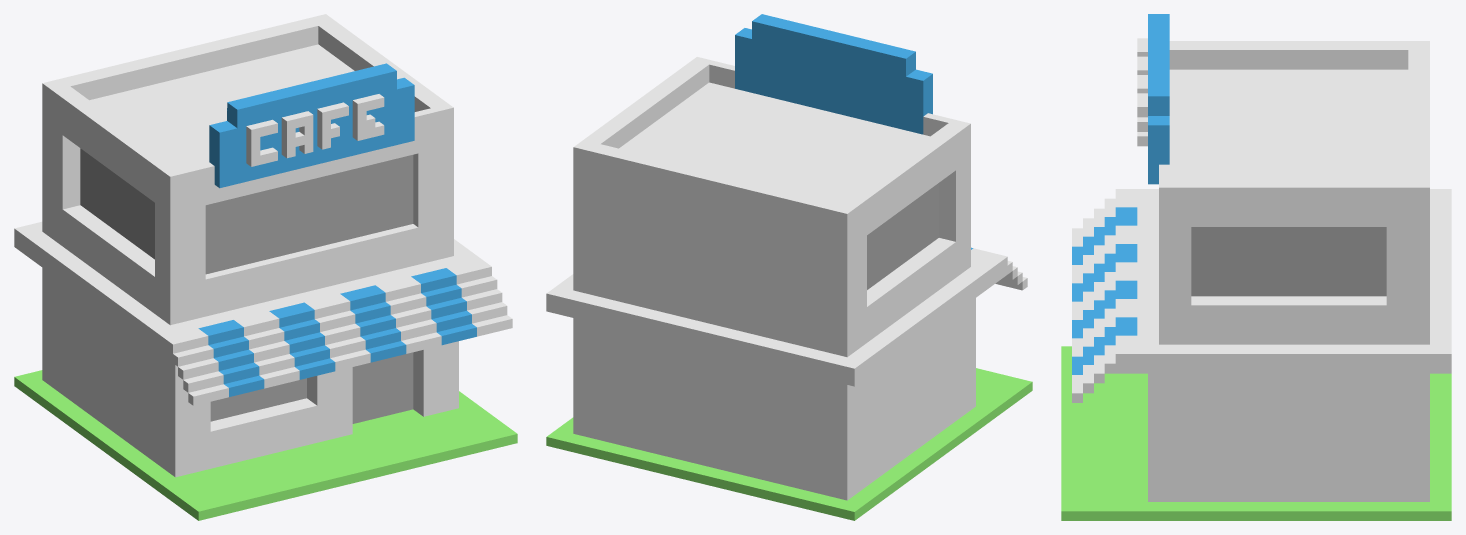
3 renders of one model, left to right at view 1: azimuth 30°, elevation 25°; view 2: azimuth 150°, elevation 25°; view 3: azimuth 270°, elevation 25°, orthographic. The views are drawn at different scales.
Visible parts, largest first — view 1: ObjObject.012; view 2: ObjObject.012; view 3: ObjObject.012.
Part boxes in pixels (x1,y1,x2,y2): ObjObject.012: (14, 14, 517, 520); ObjObject.012: (546, 14, 1032, 520); ObjObject.012: (1061, 14, 1451, 520).
Size of the model in its own units: 2 by 2 by 2.17.
